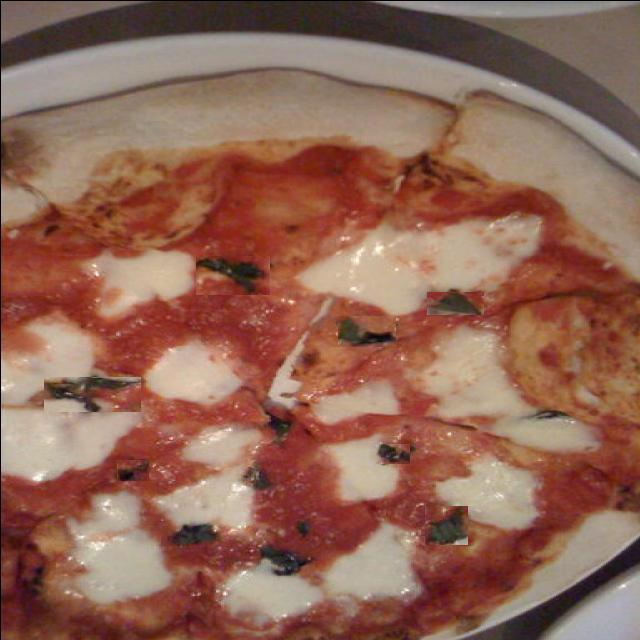basil: (43, 376, 140, 411), (194, 255, 268, 294), (337, 315, 395, 346), (424, 505, 467, 544), (259, 545, 312, 576), (426, 291, 483, 314), (168, 522, 214, 546), (266, 408, 290, 449), (375, 443, 409, 463), (244, 462, 268, 490), (116, 459, 148, 480), (294, 518, 310, 540)
pizza: (0, 67, 640, 640)
